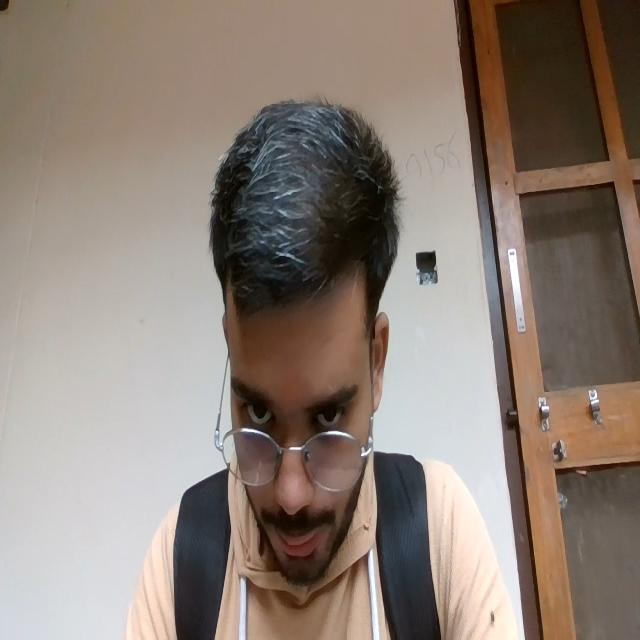drowsy: (230, 365, 360, 561)
